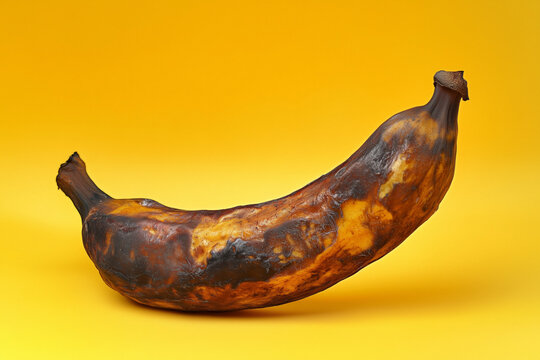rotten banana: (42, 32, 485, 329)
